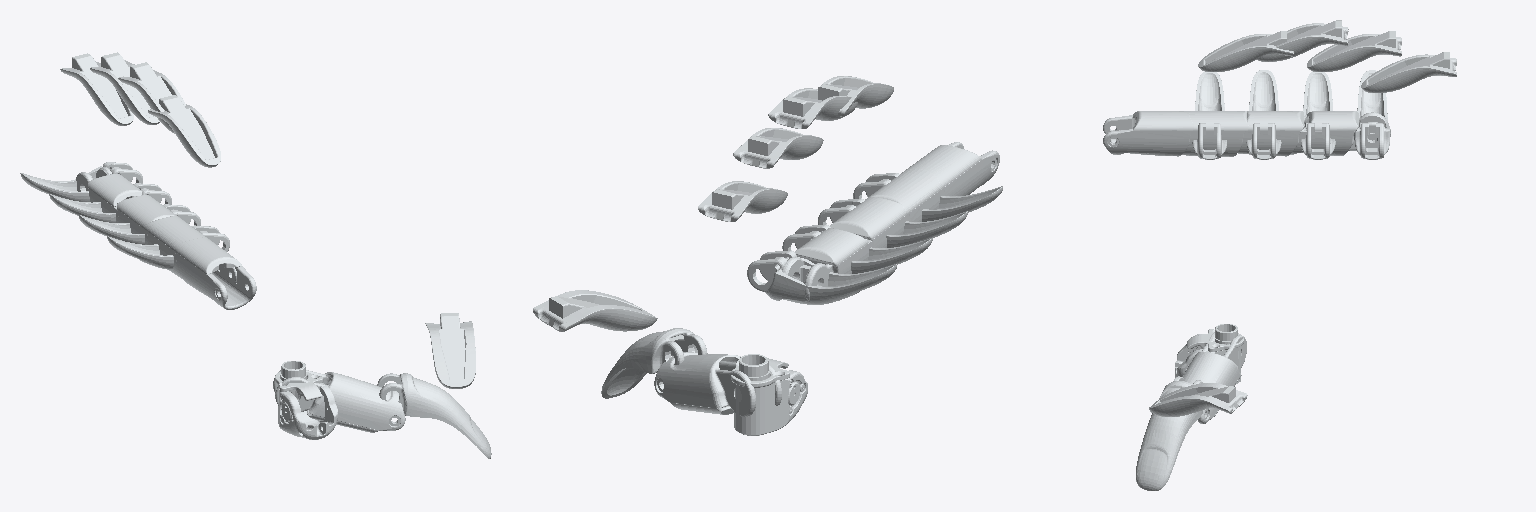
--- Facts derived from the render (not from the file) ---
Views: 3 orthographic renders of the robot side by side, from view 1: azimuth 30°, elevation 25°; view 2: azimuth 150°, elevation 25°; view 3: azimuth 270°, elevation 25°.
Model ruihand15z with 26 links and 25 joints (25 revolute), rooted at basez_link, posed all joints at 0.
Links seen in each view (by area): view 1: fz12_Link, fz21_Link, fz13_Link, fz11_Link, fz14_Link, fz23_Link, fz53_Link, fz31_Link, fz51_Link, fz43_Link, fz33_Link, fz52_Link (+4 smaller); view 2: fz12_Link, fz11_Link, fz52_Link, fz14_Link, fz13_Link, fz51_Link, fz21_Link, fz53_Link, fz43_Link, fz41_Link, fz33_Link, fz31_Link (+4 smaller); view 3: fz21_Link, fz13_Link, fz51_Link, fz14_Link, fz53_Link, fz43_Link, fz12_Link, fz23_Link, fz41_Link, fz31_Link, fz42_Link, fz32_Link (+4 smaller).
Link boxes in pixels (<box>): fz12_Link: <box>273,369,405,432</box>; fz21_Link: <box>175,237,256,309</box>; fz13_Link: <box>377,373,491,458</box>; fz11_Link: <box>275,361,337,439</box>; fz14_Link: <box>425,313,475,388</box>; fz23_Link: <box>148,95,220,167</box>; fz53_Link: <box>60,53,133,125</box>; fz31_Link: <box>146,216,236,288</box>; fz51_Link: <box>76,167,141,222</box>; fz43_Link: <box>90,52,159,124</box>; fz33_Link: <box>118,62,185,133</box>; fz52_Link: <box>20,162,142,201</box>; fz12_Link: <box>654,352,781,416</box>; fz11_Link: <box>731,354,807,435</box>; fz52_Link: <box>747,250,896,304</box>; fz14_Link: <box>533,290,657,331</box>; fz13_Link: <box>601,328,707,398</box>; fz51_Link: <box>782,228,873,301</box>; fz21_Link: <box>905,142,999,195</box>; fz53_Link: <box>698,181,787,221</box>; fz43_Link: <box>733,128,823,168</box>; fz41_Link: <box>830,197,909,247</box>; fz33_Link: <box>768,88,857,128</box>; fz31_Link: <box>865,169,944,221</box>; fz21_Link: <box>1103,111,1194,156</box>; fz13_Link: <box>1136,376,1202,490</box>; fz51_Link: <box>1290,111,1387,155</box>; fz14_Link: <box>1149,383,1247,416</box>; fz53_Link: <box>1361,52,1456,92</box>; fz43_Link: <box>1307,31,1401,71</box>; fz12_Link: <box>1182,332,1246,423</box>; fz23_Link: <box>1198,31,1293,71</box>; fz41_Link: <box>1238,111,1308,156</box>; fz31_Link: <box>1182,111,1248,156</box>; fz42_Link: <box>1301,71,1335,159</box>; fz32_Link: <box>1246,70,1281,159</box>.
Size in the robot's own frame: 0.1749 by 0.1536 by 0.1693 metres.
16 mesh visuals loaded from 26 distinct referenced files (16 binary STL); not drawn: 10 (reference not matched to a file when rendering).

URDF robot description (ruihand15z):
<?xml version="1.0" encoding="utf-8"?>
<!-- This URDF was automatically created by SolidWorks to URDF Exporter! Originally created by Stephen Brawner ([email redacted]) 
     Commit Version: 1.6.0-4-g7f85cfe  Build Version: 1.6.7995.38578
     For more information, please see http://wiki.ros.org/sw_urdf_exporter -->
<robot
  name="ruihand15z">
  <link
    name="basez_link">
    <inertial>
      <origin
        xyz="-0.00034317355194001 -0.00107533224504763 0.0538785367456893"
        rpy="0 0 0" />
      <mass
        value="0.227678925866238" />
      <inertia
        ixx="0.000233949239163572"
        ixy="7.90989513347236E-06"
        ixz="1.11723414007549E-06"
        iyy="8.94875900945447E-05"
        iyz="-2.89927923326347E-07"
        izz="0.000204633061533402" />
    </inertial>
    <visual>
      <origin
        xyz="0 0 0"
        rpy="0 0 0" />
      <geometry>
        <mesh
          filename="package://ruihand15z/meshes/basez_link.STL" />
      </geometry>
      <material
        name="">
        <color
          rgba="0.898039215686275 0.917647058823529 0.929411764705882 1" />
      </material>
    </visual>
    <collision>
      <origin
        xyz="0 0 0"
        rpy="0 0 0" />
      <geometry>
        <mesh
          filename="package://ruihand15z/meshes/basez_link.STL" />
      </geometry>
    </collision>
  </link>
  <link
    name="fz11_Link">
    <inertial>
      <origin
        xyz="-1.79457143589801E-15 9.43689570931383E-16 0.00899061986241671"
        rpy="0 0 0" />
      <mass
        value="0.00121360929921686" />
      <inertia
        ixx="2.58560142514925E-08"
        ixy="1.10591413462516E-08"
        ixz="-4.06076044959727E-23"
        iyy="4.44154571010466E-08"
        iyz="1.85734806549779E-23"
        izz="3.46380536471336E-08" />
    </inertial>
    <visual>
      <origin
        xyz="0 0 0"
        rpy="0 0 0" />
      <geometry>
        <mesh
          filename="package://ruihand15z/meshes/fz11_Link.STL" />
      </geometry>
      <material
        name="">
        <color
          rgba="0.898039215686275 0.917647058823529 0.929411764705882 1" />
      </material>
    </visual>
    <collision>
      <origin
        xyz="0 0 0"
        rpy="0 0 0" />
      <geometry>
        <mesh
          filename="package://ruihand15z/meshes/fz11_Link.STL" />
      </geometry>
    </collision>
  </link>
  <joint
    name="fz11"
    type="revolute">
    <origin
      xyz="0.043274 -0.02801 0.0198"
      rpy="0 0 1.5708" />
    <parent
      link="basez_link" />
    <child
      link="fz11_Link" />
    <axis
      xyz="0 0 1" />
    <limit
      lower="-0.5236"
      upper="0.5236"
      effort="0"
      velocity="0" />
  </joint>
  <link
    name="fz12_Link">
    <inertial>
      <origin
        xyz="-0.0219931136714579 -0.0024299188374876 -3.36588766901118E-06"
        rpy="0 0 0" />
      <mass
        value="0.0086797110524118" />
      <inertia
        ixx="4.19465389343526E-07"
        ixy="-1.70828148823669E-08"
        ixz="-3.80668629575153E-11"
        iyy="1.48378274279081E-06"
        iyz="-3.94675866573785E-11"
        izz="1.72593124811867E-06" />
    </inertial>
    <visual>
      <origin
        xyz="0 0 0"
        rpy="0 0 0" />
      <geometry>
        <mesh
          filename="package://ruihand15z/meshes/fz12_Link.STL" />
      </geometry>
      <material
        name="">
        <color
          rgba="0.898039215686275 0.917647058823529 0.929411764705882 1" />
      </material>
    </visual>
    <collision>
      <origin
        xyz="0 0 0"
        rpy="0 0 0" />
      <geometry>
        <mesh
          filename="package://ruihand15z/meshes/fz12_Link.STL" />
      </geometry>
    </collision>
  </link>
  <joint
    name="fz12"
    type="revolute">
    <origin
      xyz="0 0 0.0141"
      rpy="-1.5708 0 1.1345" />
    <parent
      link="fz11_Link" />
    <child
      link="fz12_Link" />
    <axis
      xyz="0 0 1" />
    <limit
      lower="0"
      upper="1.57"
      effort="0"
      velocity="0" />
  </joint>
  <link
    name="fz13_Link">
    <inertial>
      <origin
        xyz="-0.0126990507925109 -0.00157345468912809 9.30728945037693E-07"
        rpy="0 0 0" />
      <mass
        value="0.00476430658437596" />
      <inertia
        ixx="2.0250958928003E-07"
        ixy="-5.40162774809869E-08"
        ixz="-8.05266363789902E-12"
        iyy="4.48784909975031E-07"
        iyz="-4.20947067180248E-11"
        izz="5.20433152925732E-07" />
    </inertial>
    <visual>
      <origin
        xyz="0 0 0"
        rpy="0 0 0" />
      <geometry>
        <mesh
          filename="package://ruihand15z/meshes/fz13_Link.STL" />
      </geometry>
      <material
        name="">
        <color
          rgba="0.898039215686275 0.917647058823529 0.929411764705882 1" />
      </material>
    </visual>
    <collision>
      <origin
        xyz="0 0 0"
        rpy="0 0 0" />
      <geometry>
        <mesh
          filename="package://ruihand15z/meshes/fz13_Link.STL" />
      </geometry>
    </collision>
  </link>
  <joint
    name="fz13"
    type="revolute">
    <origin
      xyz="-0.04 0.0020036 0"
      rpy="0 0 0" />
    <parent
      link="fz12_Link" />
    <child
      link="fz13_Link" />
    <axis
      xyz="0 0 1" />
    <limit
      lower="0"
      upper="1.31"
      effort="0"
      velocity="0" />
  </joint>
  <link
    name="fz14_Link">
    <inertial>
      <origin
        xyz="-0.00453291060027065 0.00472963864384698 2.85317228388565E-07"
        rpy="0 0 0" />
      <mass
        value="0.00501763174573986" />
      <inertia
        ixx="2.42260748248976E-07"
        ixy="1.32389385112121E-07"
        ixz="1.48296682673441E-11"
        iyy="5.10623486838791E-07"
        iyz="-6.07620684859474E-12"
        izz="5.23917809101009E-07" />
    </inertial>
    <visual>
      <origin
        xyz="0 0 0"
        rpy="0 0 0" />
      <geometry>
        <mesh
          filename="package://ruihand15z/meshes/fz14_Link.STL" />
      </geometry>
      <material
        name="">
        <color
          rgba="0.898039215686275 0.917647058823529 0.929411764705882 1" />
      </material>
    </visual>
    <collision>
      <origin
        xyz="0 0 0"
        rpy="0 0 0" />
      <geometry>
        <mesh
          filename="package://ruihand15z/meshes/fz14_Link.STL" />
      </geometry>
    </collision>
  </link>
  <joint
    name="fz14"
    type="revolute">
    <origin
      xyz="-0.026394 -0.0056891 0"
      rpy="0 0 0" />
    <parent
      link="fz13_Link" />
    <child
      link="fz14_Link" />
    <axis
      xyz="0 0 1" />
    <limit
      lower="0"
      upper="1.31"
      effort="0"
      velocity="0" />
    <mimic joint="fz13" multiplier="1.0" offset="0.0"/>
  </joint>
  <link
    name="fz15_Link">
    <inertial>
      <origin
        xyz="0.0027951812128217 1.05983190153494E-06 -0.00807621626120532"
        rpy="0 0 0" />
      <mass
        value="0.00471873167369203" />
      <inertia
        ixx="3.14361854516814E-07"
        ixy="-3.75583597536668E-11"
        ixz="3.59592178959833E-08"
        iyy="2.68192719248611E-07"
        iyz="8.47895015682231E-12"
        izz="1.74396668902991E-07" />
    </inertial>
    <visual>
      <origin
        xyz="0 0 0"
        rpy="0 0 0" />
      <geometry>
        <mesh
          filename="package://ruihand15z/meshes/fz15_Link.STL" />
      </geometry>
      <material
        name="">
        <color
          rgba="0.298039215686275 0.298039215686275 0.298039215686275 1" />
      </material>
    </visual>
    <collision>
      <origin
        xyz="0 0 0"
        rpy="0 0 0" />
      <geometry>
        <mesh
          filename="package://ruihand15z/meshes/fz15_Link.STL" />
      </geometry>
    </collision>
  </link>
  <joint
    name="fz15"
    type="revolute">
    <origin
      xyz="-0.022081 0.0064251 0"
      rpy="1.5708 0 -1.59" />
    <parent
      link="fz14_Link" />
    <child
      link="fz15_Link" />
    <axis
      xyz="0 0 1" />
    <limit
      lower="0"
      upper="0"
      effort="0"
      velocity="0" />
  </joint>
  <link
    name="fz21_Link">
    <inertial>
      <origin
        xyz="8.67361737988404E-18 -1.38777878078145E-17 0.00889061986241678"
        rpy="0 0 0" />
      <mass
        value="0.00121360929921685" />
      <inertia
        ixx="2.06990519491167E-08"
        ixy="-1.09024868504868E-21"
        ixz="-2.90145723079446E-23"
        iyy="4.95724194034222E-08"
        iyz="4.76932694968486E-24"
        izz="3.46380536471335E-08" />
    </inertial>
    <visual>
      <origin
        xyz="0 0 0"
        rpy="0 0 0" />
      <geometry>
        <mesh
          filename="package://ruihand15z/meshes/fz21_Link.STL" />
      </geometry>
      <material
        name="">
        <color
          rgba="0.898039215686275 0.917647058823529 0.929411764705882 1" />
      </material>
    </visual>
    <collision>
      <origin
        xyz="0 0 0"
        rpy="0 0 0" />
      <geometry>
        <mesh
          filename="package://ruihand15z/meshes/fz21_Link.STL" />
      </geometry>
    </collision>
  </link>
  <joint
    name="fz21"
    type="revolute">
    <origin
      xyz="-0.0127 -0.03525 0.1127"
      rpy="1.5708 0 1.5708" />
    <parent
      link="basez_link" />
    <child
      link="fz21_Link" />
    <axis
      xyz="0 0 1" />
    <limit
      lower="-0.5236"
      upper="0.5236"
      effort="0"
      velocity="0" />
  </joint>
  <link
    name="fz22_Link">
    <inertial>
      <origin
        xyz="0.00242244594876855 0.0218789324043592 4.17047610418554E-06"
        rpy="0 0 0" />
      <mass
        value="0.00846278916519727" />
      <inertia
        ixx="1.45078674231368E-06"
        ixy="-1.85847798062845E-08"
        ixz="-5.82745974717836E-12"
        iyy="4.05775375043037E-07"
        iyz="-2.23927698184646E-12"
        izz="1.69324372838146E-06" />
    </inertial>
    <visual>
      <origin
        xyz="0 0 0"
        rpy="0 0 0" />
      <geometry>
        <mesh
          filename="package://ruihand15z/meshes/fz22_Link.STL" />
      </geometry>
      <material
        name="">
        <color
          rgba="0.898039215686275 0.917647058823529 0.929411764705882 1" />
      </material>
    </visual>
    <collision>
      <origin
        xyz="0 0 0"
        rpy="0 0 0" />
      <geometry>
        <mesh
          filename="package://ruihand15z/meshes/fz22_Link.STL" />
      </geometry>
    </collision>
  </link>
  <joint
    name="fz22"
    type="revolute">
    <origin
      xyz="0 0 0.014"
      rpy="3.1416 -1.5708 3.1416" />
    <parent
      link="fz21_Link" />
    <child
      link="fz22_Link" />
    <axis
      xyz="0 0 -1" />
    <limit
      lower="0"
      upper="1.57"
      effort="0"
      velocity="0" />
  </joint>
  <link
    name="fz23_Link">
    <inertial>
      <origin
        xyz="0.00144556303041219 0.0125380664486047 -8.78824398028986E-05"
        rpy="0 0 0" />
      <mass
        value="0.0042737052106798" />
      <inertia
        ixx="3.63123749138908E-07"
        ixy="-4.77067794625013E-08"
        ixz="-4.57504043950822E-11"
        iyy="1.52556733134053E-07"
        iyz="-1.35005307556737E-10"
        izz="4.64266435903028E-07" />
    </inertial>
    <visual>
      <origin
        xyz="0 0 0"
        rpy="0 0 0" />
      <geometry>
        <mesh
          filename="package://ruihand15z/meshes/fz23_Link.STL" />
      </geometry>
      <material
        name="">
        <color
          rgba="0.898039215686275 0.917647058823529 0.929411764705882 1" />
      </material>
    </visual>
    <collision>
      <origin
        xyz="0 0 0"
        rpy="0 0 0" />
      <geometry>
        <mesh
          filename="package://ruihand15z/meshes/fz23_Link.STL" />
      </geometry>
    </collision>
  </link>
  <joint
    name="fz23"
    type="revolute">
    <origin
      xyz="-0.0020036 0.04 0.0001"
      rpy="0 0 0" />
    <parent
      link="fz22_Link" />
    <child
      link="fz23_Link" />
    <axis
      xyz="0 0 -1" />
    <limit
      lower="0"
      upper="1.31"
      effort="0"
      velocity="0" />
  </joint>
  <link
    name="fz24_Link">
    <inertial>
      <origin
        xyz="-0.00466154898025173 0.00436249934079028 1.11545975147592E-10"
        rpy="0 0 0" />
      <mass
        value="0.00479708690323324" />
      <inertia
        ixx="4.75009027944999E-07"
        ixy="1.27106629359309E-07"
        ixz="2.70293440908828E-13"
        iyy="2.17004046488688E-07"
        iyz="-2.79556247147891E-12"
        izz="5.0429014813509E-07" />
    </inertial>
    <visual>
      <origin
        xyz="0 0 0"
        rpy="0 0 0" />
      <geometry>
        <mesh
          filename="package://ruihand15z/meshes/fz24_Link.STL" />
      </geometry>
      <material
        name="">
        <color
          rgba="0.898039215686275 0.917647058823529 0.929411764705882 1" />
      </material>
    </visual>
    <collision>
      <origin
        xyz="0 0 0"
        rpy="0 0 0" />
      <geometry>
        <mesh
          filename="package://ruihand15z/meshes/fz24_Link.STL" />
      </geometry>
    </collision>
  </link>
  <joint
    name="fz24"
    type="revolute">
    <origin
      xyz="0.0056891 0.026394 -0.0001"
      rpy="0 0 0" />
    <parent
      link="fz23_Link" />
    <child
      link="fz24_Link" />
    <axis
      xyz="0 0 -1" />
    <limit
      lower="0"
      upper="1.31"
      effort="0"
      velocity="0" />
    <mimic joint="fz23" multiplier="1.0" offset="0.0"/>
  </joint>
  <link
    name="fz25_Link">
    <inertial>
      <origin
        xyz="0.00297644022186262 1.04454969095114E-06 -0.00793433105288593"
        rpy="0 0 0" />
      <mass
        value="0.00435559858107511" />
      <inertia
        ixx="2.74467460036102E-07"
        ixy="-9.96171397579148E-12"
        ixz="3.73354156247215E-08"
        iyy="2.50729986460295E-07"
        iyz="1.59412272233225E-11"
        izz="1.46865601968644E-07" />
    </inertial>
    <visual>
      <origin
        xyz="0 0 0"
        rpy="0 0 0" />
      <geometry>
        <mesh
          filename="package://ruihand15z/meshes/fz25_Link.STL" />
      </geometry>
      <material
        name="">
        <color
          rgba="0.298039215686275 0.298039215686275 0.298039215686275 1" />
      </material>
    </visual>
    <collision>
      <origin
        xyz="0 0 0"
        rpy="0 0 0" />
      <geometry>
        <mesh
          filename="package://ruihand15z/meshes/fz25_Link.STL" />
      </geometry>
    </collision>
  </link>
  <joint
    name="fz25"
    type="revolute">
    <origin
      xyz="-0.0064251 0.022081 0"
      rpy="-1.5708 0 0" />
    <parent
      link="fz24_Link" />
    <child
      link="fz25_Link" />
    <axis
      xyz="0 0 1" />
    <limit
      lower="0"
      upper="0"
      effort="0"
      velocity="0" />
  </joint>
  <link
    name="fz31_Link">
    <inertial>
      <origin
        xyz="3.12250225675825E-17 0 0.00889061986241679"
        rpy="0 0 0" />
      <mass
        value="0.00121360929921686" />
      <inertia
        ixx="2.06990534269133E-08"
        ixy="-6.53214829601369E-12"
        ixz="5.55279149511914E-23"
        iyy="4.95724179256259E-08"
        iyz="-1.5829816227565E-24"
        izz="3.46380536471337E-08" />
    </inertial>
    <visual>
      <origin
        xyz="0 0 0"
        rpy="0 0 0" />
      <geometry>
        <mesh
          filename="package://ruihand15z/meshes/fz31_Link.STL" />
      </geometry>
      <material
        name="">
        <color
          rgba="0.898039215686275 0.917647058823529 0.929411764705882 1" />
      </material>
    </visual>
    <collision>
      <origin
        xyz="0 0 0"
        rpy="0 0 0" />
      <geometry>
        <mesh
          filename="package://ruihand15z/meshes/fz31_Link.STL" />
      </geometry>
    </collision>
  </link>
  <joint
    name="fz31"
    type="revolute">
    <origin
      xyz="-0.0127 -0.01175 0.1127"
      rpy="1.5708 0 1.5708" />
    <parent
      link="basez_link" />
    <child
      link="fz31_Link" />
    <axis
      xyz="0 0 1" />
    <limit
      lower="-0.5236"
      upper="0.5236"
      effort="0"
      velocity="0" />
  </joint>
  <link
    name="fz32_Link">
    <inertial>
      <origin
        xyz="0.00230635436550865 0.0245490817198411 6.01794702180525E-06"
        rpy="0 0 0" />
      <mass
        value="0.00970085709495209" />
      <inertia
        ixx="2.0120676450683E-06"
        ixy="7.24905883206972E-09"
        ixz="-2.25496572279817E-11"
        iyy="4.68755263351101E-07"
        iyz="-3.97846945185649E-10"
        izz="2.28717289308201E-06" />
    </inertial>
    <visual>
      <origin
        xyz="0 0 0"
        rpy="0 0 0" />
      <geometry>
        <mesh
          filename="package://ruihand15z/meshes/fz32_Link.STL" />
      </geometry>
      <material
        name="">
        <color
          rgba="0.898039215686275 0.917647058823529 0.929411764705882 1" />
      </material>
    </visual>
    <collision>
      <origin
        xyz="0 0 0"
        rpy="0 0 0" />
      <geometry>
        <mesh
          filename="package://ruihand15z/meshes/fz32_Link.STL" />
      </geometry>
    </collision>
  </link>
  <joint
    name="fz32"
    type="revolute">
    <origin
      xyz="0 0 0.014"
      rpy="3.1416 -1.5708 3.1416" />
    <parent
      link="fz31_Link" />
    <child
      link="fz32_Link" />
    <axis
      xyz="0 0 -1" />
    <limit
      lower="0"
      upper="1.57"
      effort="0"
      velocity="0" />
  </joint>
  <link
    name="fz33_Link">
    <inertial>
      <origin
        xyz="0.00167719778740236 0.0171106598149136 9.93180281379687E-05"
        rpy="0 0 0" />
      <mass
        value="0.00562429907357917" />
      <inertia
        ixx="7.47389909508925E-07"
        ixy="-6.65996272978183E-08"
        ixz="6.85392395706968E-12"
        iyy="2.1598638936055E-07"
        iyz="1.14697442406448E-11"
        izz="8.96836484178209E-07" />
    </inertial>
    <visual>
      <origin
        xyz="0 0 0"
        rpy="0 0 0" />
      <geometry>
        <mesh
          filename="package://ruihand15z/meshes/fz33_Link.STL" />
      </geometry>
      <material
        name="">
        <color
          rgba="0.898039215686275 0.917647058823529 0.929411764705882 1" />
      </material>
    </visual>
    <collision>
      <origin
        xyz="0 0 0"
        rpy="0 0 0" />
      <geometry>
        <mesh
          filename="package://ruihand15z/meshes/fz33_Link.STL" />
      </geometry>
    </collision>
  </link>
  <joint
    name="fz33"
    type="revolute">
    <origin
      xyz="-0.0020038 0.045 -8.9819E-05"
      rpy="0.00022623 0 0" />
    <parent
      link="fz32_Link" />
    <child
      link="fz33_Link" />
    <axis
      xyz="0 0 -1" />
    <limit
      lower="0"
      upper="1.31"
      effort="0"
      velocity="0" />
  </joint>
  <link
    name="fz34_Link">
    <inertial>
      <origin
        xyz="-0.00474818242099373 0.00426803961977545 -4.7997448376913E-10"
        rpy="0 0 0" />
      <mass
        value="0.00479709005735866" />
      <inertia
        ixx="4.69802766193693E-07"
        ixy="1.32182615163572E-07"
        ixz="3.42887496049374E-13"
        iyy="2.22210684151133E-07"
        iyz="-2.80303782440668E-12"
        izz="5.04290368704447E-07" />
    </inertial>
    <visual>
      <origin
        xyz="0 0 0"
        rpy="0 0 0" />
      <geometry>
        <mesh
          filename="package://ruihand15z/meshes/fz34_Link.STL" />
      </geometry>
      <material
        name="">
        <color
          rgba="0.898039215686275 0.917647058823529 0.929411764705882 1" />
      </material>
    </visual>
    <collision>
      <origin
        xyz="0 0 0"
        rpy="0 0 0" />
      <geometry>
        <mesh
          filename="package://ruihand15z/meshes/fz34_Link.STL" />
      </geometry>
    </collision>
  </link>
  <joint
    name="fz34"
    type="revolute">
    <origin
      xyz="0.0054853 0.03558 0.0001"
      rpy="0 0 0" />
    <parent
      link="fz33_Link" />
    <child
      link="fz34_Link" />
    <axis
      xyz="0 0 -1" />
    <limit
      lower="0"
      upper="1.31"
      effort="0"
      velocity="0" />
    <mimic joint="fz33" multiplier="1.0" offset="0.0"/>
  </joint>
  <link
    name="fz35_Link">
    <inertial>
      <origin
        xyz="0.0028235594553636 2.82813048171557E-06 -0.0079900105331456"
        rpy="0 0 0" />
      <mass
        value="0.00435560058721544" />
      <inertia
        ixx="2.75853559206604E-07"
        ixy="-1.77656391096842E-11"
        ixz="3.48583257155576E-08"
        iyy="2.50729964535802E-07"
        iyz="3.96584272464994E-11"
        izz="1.45479128088164E-07" />
    </inertial>
    <visual>
      <origin
        xyz="0 0 0"
        rpy="0 0 0" />
      <geometry>
        <mesh
          filename="package://ruihand15z/meshes/fz35_Link.STL" />
      </geometry>
      <material
        name="">
        <color
          rgba="0.298039215686275 0.298039215686275 0.298039215686275 1" />
      </material>
    </visual>
    <collision>
      <origin
        xyz="0 0 0"
        rpy="0 0 0" />
      <geometry>
        <mesh
          filename="package://ruihand15z/meshes/fz35_Link.STL" />
      </geometry>
    </collision>
  </link>
  <joint
    name="fz35"
    type="revolute">
    <origin
      xyz="-0.0068671 0.021947 0"
      rpy="-1.571 0 0.039277" />
    <parent
      link="fz34_Link" />
    <child
      link="fz35_Link" />
    <axis
      xyz="0 0 1" />
    <limit
      lower="0"
      upper="0"
      effort="0"
      velocity="0" />
  </joint>
  <link
    name="fz41_Link">
    <inertial>
      <origin
        xyz="8.39606162372775E-16 -5.55111512312578E-16 0.00889061986241678"
        rpy="0 0 0" />
      <mass
        value="0.00121360929921685" />
      <inertia
        ixx="2.06990519491167E-08"
        ixy="-1.09048462267801E-21"
        ixz="-3.92791274062923E-23"
        iyy="4.95724194034222E-08"
        iyz="4.63460196223086E-24"
        izz="3.46380536471335E-08" />
    </inertial>
    <visual>
      <origin
        xyz="0 0 0"
        rpy="0 0 0" />
      <geometry>
        <mesh
          filename="package://ruihand15z/meshes/fz41_Link.STL" />
      </geometry>
      <material
        name="">
        <color
          rgba="0.898039215686275 0.917647058823529 0.929411764705882 1" />
      </material>
    </visual>
    <collision>
      <origin
        xyz="0 0 0"
        rpy="0 0 0" />
      <geometry>
        <mesh
          filename="package://ruihand15z/meshes/fz41_Link.STL" />
      </geometry>
    </collision>
  </link>
  <joint
    name="fz41"
    type="revolute">
    <origin
      xyz="-0.0127 0.01175 0.1127"
      rpy="1.5708 0 1.5708" />
    <parent
      link="basez_link" />
    <child
      link="fz41_Link" />
    <axis
      xyz="0 0 1" />
    <limit
      lower="-0.5236"
      upper="0.5236"
      effort="0"
      velocity="0" />
  </joint>
  <link
    name="fz42_Link">
    <inertial>
      <origin
        xyz="0.00242242770023601 0.021878951599619 4.18412884452962E-06"
        rpy="0 0 0" />
      <mass
        value="0.00846276747416872" />
      <inertia
        ixx="1.45078545665461E-06"
        ixy="-1.8586010638057E-08"
        ixz="-6.36656277966731E-12"
        iyy="4.0577424339608E-07"
        iyz="-1.60173870162051E-12"
        izz="1.69324128551225E-06" />
    </inertial>
    <visual>
      <origin
        xyz="0 0 0"
        rpy="0 0 0" />
      <geometry>
        <mesh
          filename="package://ruihand15z/meshes/fz42_Link.STL" />
      </geometry>
      <material
        name="">
        <color
          rgba="0.898039215686275 0.917647058823529 0.929411764705882 1" />
      </material>
    </visual>
    <collision>
      <origin
        xyz="0 0 0"
        rpy="0 0 0" />
      <geometry>
        <mesh
          filename="package://ruihand15z/meshes/fz42_Link.STL" />
      </geometry>
    </collision>
  </link>
  <joint
    name="fz42"
    type="revolute">
    <origin
      xyz="0 0 0.014"
      rpy="3.1416 -1.5708 3.1416" />
    <parent
      link="fz41_Link" />
    <child
      link="fz42_Link" />
    <axis
      xyz="0 0 -1" />
    <limit
      lower="0"
      upper="1.57"
      effort="0"
      velocity="0" />
  </joint>
  <link
    name="fz43_Link">
    <inertial>
      <origin
        xyz="0.00144556693299163 0.0125380648239439 -8.78872398343139E-05"
        rpy="0 0 0" />
      <mass
        value="0.00427370774811129" />
      <inertia
        ixx="3.63123762918333E-07"
        ixy="-4.77067371656638E-08"
        ixz="-4.57423551960943E-11"
        iyy="1.52556844742802E-07"
        iyz="-1.35011229302418E-10"
        izz="4.64266562894101E-07" />
    </inertial>
    <visual>
      <origin
        xyz="0 0 0"
        rpy="0 0 0" />
      <geometry>
        <mesh
          filename="package://ruihand15z/meshes/fz43_Link.STL" />
      </geometry>
      <material
        name="">
        <color
          rgba="0.898039215686275 0.917647058823529 0.929411764705882 1" />
      </material>
    </visual>
    <collision>
      <origin
        xyz="0 0 0"
        rpy="0 0 0" />
      <geometry>
        <mesh
          filename="package://ruihand15z/meshes/fz43_Link.STL" />
      </geometry>
    </collision>
  </link>
  <joint
    name="fz43"
    type="revolute">
    <origin
      xyz="-0.0020036 0.04 0.0001"
      rpy="0 0 0" />
    <parent
      link="fz42_Link" />
    <child
      link="fz43_Link" />
    <axis
      xyz="0 0 -1" />
    <limit
      lower="0"
      upper="1.31"
      effort="0"
      velocity="0" />
  </joint>
  <link
    name="fz44_Link">
    <inertial>
      <origin
        xyz="-0.00466154898020672 0.00436249934079297 1.11546077929958E-10"
        rpy="0 0 0" />
      <mass
        value="0.00479708690323314" />
      <inertia
        ixx="4.75009027944991E-07"
        ixy="1.2710662935931E-07"
        ixz="2.70293440867116E-13"
        iyy="2.1700404648868E-07"
        iyz="-2.79556247300782E-12"
        izz="5.04290148135081E-07" />
    </inertial>
    <visual>
      <origin
        xyz="0 0 0"
        rpy="0 0 0" />
      <geometry>
        <mesh
          filename="package://ruihand15z/meshes/fz44_Link.STL" />
      </geometry>
      <material
        name="">
        <color
          rgba="0.898039215686275 0.917647058823529 0.929411764705882 1" />
      </material>
    </visual>
    <collision>
      <origin
        xyz="0 0 0"
        rpy="0 0 0" />
      <geometry>
        <mesh
          filename="package://ruihand15z/meshes/fz44_Link.STL" />
      </geometry>
    </collision>
  </link>
  <joint
    name="fz44"
    type="revolute">
    <origin
      xyz="0.0056891 0.026394 -0.0001"
      rpy="0 0 0" />
    <parent
      link="fz43_Link" />
    <child
      link="fz44_Link" />
    <axis
      xyz="0 0 -1" />
    <limit
      lower="0"
      upper="1.31"
      effort="0"
      velocity="0" />
    <mimic joint="fz43" multiplier="1.0" offset="0.0"/>
  </joint>
  <link
    name="fz45_Link">
    <inertial>
      <origin
        xyz="0.00297643893604397 1.04648391489187E-06 -0.00793433014148787"
        rpy="0 0 0" />
      <mass
        value="0.00435559752601789" />
      <inertia
        ixx="2.74467397037502E-07"
        ixy="-9.99398067356863E-12"
        ixz="3.73354327133049E-08"
        iyy="2.50729951244828E-07"
        iyz="1.59536261776382E-11"
        izz="1.46865522001121E-07" />
    </inertial>
    <visual>
      <origin
        xyz="0 0 0"
        rpy="0 0 0" />
      <geometry>
        <mesh
          filename="package://ruihand15z/meshes/fz45_Link.STL" />
      </geometry>
      <material
        name="">
        <color
          rgba="0.298039215686275 0.298039215686275 0.298039215686275 1" />
      </material>
    </visual>
    <collision>
      <origin
        xyz="0 0 0"
        rpy="0 0 0" />
      <geometry>
        <mesh
          filename="package://ruihand15z/meshes/fz45_Link.STL" />
      </geometry>
    </collision>
  </link>
  <joint
    name="fz45"
    type="revolute">
    <origin
      xyz="-0.0064251 0.022081 0"
      rpy="-1.5708 0 0" />
    <parent
      link="fz44_Link" />
    <child
      link="fz45_Link" />
    <axis
      xyz="0 0 1" />
    <limit
      lower="0"
      upper="0"
      effort="0"
      velocity="0" />
  </joint>
  <link
    name="fz51_Link">
    <inertial>
      <origin
        xyz="-2.6104118866499E-14 -1.12410081243297E-15 0.0089906198624165"
        rpy="0 0 0" />
      <mass
        value="0.00121360929921686" />
      <inertia
        ixx="2.06990534269133E-08"
        ixy="6.53214829729766E-12"
        ixz="-4.1889705963737E-23"
        iyy="4.95724179256258E-08"
        iyz="-2.53545369910789E-24"
        izz="3.46380536471337E-08" />
    </inertial>
    <visual>
      <origin
        xyz="0 0 0"
        rpy="0 0 0" />
      <geometry>
        <mesh
          filename="package://ruihand15z/meshes/fz51_Link.STL" />
      </geometry>
      <material
        name="">
        <color
          rgba="0.898039215686275 0.917647058823529 0.929411764705882 1" />
      </material>
    </visual>
    <collision>
      <origin
        xyz="0 0 0"
        rpy="0 0 0" />
      <geometry>
        <mesh
          filename="package://ruihand15z/meshes/fz51_Link.STL" />
      </geometry>
    </collision>
  </link>
  <joint
    name="fz51"
    type="revolute">
    <origin
      xyz="-0.0128 0.03525 0.1127"
      rpy="1.5708 0 1.5708" />
    <parent
      link="basez_link" />
    <child
      link="fz51_Link" />
    <axis
      xyz="0 0 1" />
    <limit
      lower="-0.5236"
      upper="0.5236"
      effort="0"
      velocity="0" />
  </joint>
  <link
    name="fz52_Link">
    <inertial>
      <origin
        xyz="0.00246342248237983 0.0167158509285723 -3.76673528433291E-05"
        rpy="0 0 0" />
      <mass
        value="0.00657269018137158" />
      <inertia
        ixx="6.88453851311553E-07"
        ixy="-2.29350346438115E-08"
        ixz="-1.92686903923411E-11"
        iyy="2.94941097624512E-07"
        iyz="-1.74500028537127E-11"
        izz="8.75198238324997E-07" />
    </inertial>
    <visual>
      <origin
        xyz="0 0 0"
        rpy="0 0 0" />
      <geometry>
        <mesh
          filename="package://ruihand15z/meshes/fz52_Link.STL" />
      </geometry>
      <material
        name="">
        <color
          rgba="0.898039215686275 0.917647058823529 0.929411764705882 1" />
      </material>
    </visual>
    <collision>
      <origin
        xyz="0 0 0"
        rpy="0 0 0" />
      <geometry>
        <mesh
          filename="package://ruihand15z/meshes/fz52_Link.STL" />
      </geometry>
    </collision>
  </link>
  <joint
    name="fz52"
    type="revolute">
    <origin
      xyz="0 0 0.0141"
      rpy="3.1414 -1.5708 3.1416" />
    <parent
      link="fz51_Link" />
    <child
      link="fz52_Link" />
    <axis
      xyz="0 0 -1" />
    <limit
      lower="0"
      upper="1.57"
      effort="0"
      velocity="0" />
  </joint>
  <link
    name="fz53_Link">
    <inertial>
      <origin
        xyz="0.00139189274491142 0.0105623724753729 0.000100008579342864"
        rpy="0 0 0" />
      <mass
        value="0.00345238261264214" />
      <inertia
        ixx="2.4974496866978E-07"
        ixy="-3.38118429756187E-08"
        ixz="-1.06960332729312E-11"
        iyy="1.34595729073782E-07"
        iyz="4.22846949052114E-12"
        izz="3.07778560333015E-07" />
    </inertial>
    <visual>
      <origin
        xyz="0 0 0"
        rpy="0 0 0" />
      <geometry>
        <mesh
          filename="package://ruihand15z/meshes/fz53_Link.STL" />
      </geometry>
      <material
        name="">
        <color
          rgba="0.898039215686275 0.917647058823529 0.929411764705882 1" />
      </material>
    </visual>
    <collision>
      <origin
        xyz="0 0 0"
        rpy="0 0 0" />
      <geometry>
        <mesh
          filename="package://ruihand15z/meshes/fz53_Link.STL" />
      </geometry>
    </collision>
  </link>
  <joint
    name="fz53"
    type="revolute">
    <origin
      xyz="-0.0020025 0.03 -0.00015"
      rpy="0 0 0" />
    <parent
      link="fz52_Link" />
    <child
      link="fz53_Link" />
    <axis
      xyz="0 0 -1" />
    <limit
      lower="0"
      upper="1.31"
      effort="0"
      velocity="0" />
  </joint>
  <link
    name="fz54_Link">
    <inertial>
      <origin
        xyz="-0.00453320968862529 0.00449571825323433 0.00800000047783327"
        rpy="0 0 0" />
      <mass
        value="0.00479708561279491" />
      <inertia
        ixx="4.82154241171672E-07"
        ixy="1.19421785552888E-07"
        ixz="1.88547687314121E-13"
        iyy="2.09858766597414E-07"
        iyz="-2.81202670973778E-12"
        izz="5.04290145625515E-07" />
    </inertial>
    <visual>
      <origin
        xyz="0 0 0"
        rpy="0 0 0" />
      <geometry>
        <mesh
          filename="package://ruihand15z/meshes/fz54_Link.STL" />
      </geometry>
      <material
        name="">
        <color
          rgba="0.898039215686275 0.917647058823529 0.929411764705882 1" />
      </material>
    </visual>
    <collision>
      <origin
        xyz="0 0 0"
        rpy="0 0 0" />
      <geometry>
        <mesh
          filename="package://ruihand15z/meshes/fz54_Link.STL" />
      </geometry>
    </collision>
  </link>
  <joint
    name="fz54"
    type="revolute">
    <origin
      xyz="0.0060847 0.022181 0.0001"
      rpy="0 0 0" />
    <parent
      link="fz53_Link" />
    <child
      link="fz54_Link" />
    <axis
      xyz="0 0 -1" />
    <limit
      lower="0"
      upper="1.31"
      effort="0"
      velocity="0" />
    <mimic joint="fz53" multiplier="1.0" offset="0.0"/>
  </joint>
  <link
    name="fz55_Link">
    <inertial>
      <origin
        xyz="0.00274529151993469 -7.70952745018927E-07 -0.00801721357061719"
        rpy="0 0 0" />
      <mass
        value="0.00435558826355098" />
      <inertia
        ixx="2.76522538046093E-07"
        ixy="-2.31264785724361E-12"
        ixz="3.35773665943653E-08"
        iyy="2.50729290326016E-07"
        iyz="-7.49862225562947E-12"
        izz="1.44809062572544E-07" />
    </inertial>
    <visual>
      <origin
        xyz="0 0 0"
        rpy="0 0 0" />
      <geometry>
        <mesh
          filename="package://ruihand15z/meshes/fz55_Link.STL" />
      </geometry>
      <material
        name="">
        <color
          rgba="0.298039215686275 0.298039215686275 0.298039215686275 1" />
      </material>
    </visual>
    <collision>
      <origin
        xyz="0 0 0"
        rpy="0 0 0" />
      <geometry>
        <mesh
          filename="package://ruihand15z/meshes/fz55_Link.STL" />
      </geometry>
    </collision>
  </link>
  <joint
    name="fz55"
    type="revolute">
    <origin
      xyz="-0.0057827 0.022258 0"
      rpy="-1.5706 0 0" />
    <parent
      link="fz54_Link" />
    <child
      link="fz55_Link" />
    <axis
      xyz="0 0 1" />
    <limit
      lower="0"
      upper="0"
      effort="0"
      velocity="0" />
  </joint>


   <!-- 在所有 link 和 joint 定义之后添加 transmission -->
  <transmission name="trans_fz11">
    <type>transmission_interface/SimpleTransmission</type>
    <joint name="fz11">
      <hardwareInterface>EffortJointInterface</hardwareInterface>
    </joint>
    <actuator name="actuator_fz11">
      <hardwareInterface>EffortJointInterface</hardwareInterface>
      <mechanicalReduction>1</mechanicalReduction>
    </actuator>
  </transmission>
  <transmission name="trans_fz12">
    <type>transmission_interface/SimpleTransmission</type>
    <joint name="fz12">
      <hardwareInterface>EffortJointInterface</hardwareInterface>
    </joint>
    <actuator name="actuator_fz12">
      <hardwareInterface>EffortJointInterface</hardwareInterface>
      <mechanicalReduction>1</mechanicalReduction>
    </actuator>
  </transmission>
  <transmission name="trans_fz13">
    <type>transmission_interface/SimpleTransmission</type>
    <joint name="fz13">
      <hardwareInterface>EffortJointInterface</hardwareInterface>
    </joint>
    <actuator name="actuator_fz13">
      <hardwareInterface>EffortJointInterface</hardwareInterface>
      <mechanicalReduction>1</mechanicalReduction>
    </actuator>
  </transmission>
  <transmission name="trans_fz14">
    <type>transmission_interface/SimpleTransmission</type>
    <joint name="fz14">
      <hardwareInterface>EffortJointInterface</hardwareInterface>
    </joint>
    <actuator name="actuator_fz14">
      <hardwareInterface>EffortJointInterface</hardwareInterface>
      <mechanicalReduction>1</mechanicalReduction>
    </actuator>
  </transmission>
  <transmission name="trans_fz21">
    <type>transmission_interface/SimpleTransmission</type>
    <joint name="fz21">
      <hardwareInterface>EffortJointInterface</hardwareInterface>
    </joint>
    <actuator name="actuator_fz21">
      <hardwareInterface>EffortJointInterface</hardwareInterface>
      <mechanicalReduction>1</mechanicalReduction>
    </actuator>
  </transmission>
  <transmission name="trans_fz22">
    <type>transmission_interface/SimpleTransmission</type>
    <joint name="fz22">
      <hardwareInterface>EffortJointInterface</hardwareInterface>
    </joint>
    <actuator name="actuator_fz22">
      <hardwareInterface>EffortJointInterface</hardwareInterface>
      <mechanicalReduction>1</mechanicalReduction>
    </actuator>
  </transmission>
  <transmission name="trans_fz23">
    <type>transmission_interface/SimpleTransmission</type>
    <joint name="fz23">
      <hardwareInterface>EffortJointInterface</hardwareInterface>
    </joint>
    <actuator name="actuator_fz23">
      <hardwareInterface>EffortJointInterface</hardwareInterface>
      <mechanicalReduction>1</mechanicalReduction>
    </actuator>
  </transmission>
  <transmission name="trans_fz24">
    <type>transmission_interface/SimpleTransmission</type>
    <joint name="fz24">
      <hardwareInterface>EffortJointInterface</hardwareInterface>
    </joint>
    <actuator name="actuator_fz24">
      <hardwareInterface>EffortJointInterface</hardwareInterface>
      <mechanicalReduction>1</mechanicalReduction>
    </actuator>
  </transmission>
  <transmission name="trans_fz31">
    <type>transmission_interface/SimpleTransmission</type>
    <joint name="fz31">
      <hardwareInterface>EffortJointInterface</hardwareInterface>
    </joint>
    <actuator name="actuator_fz31">
      <hardwareInterface>EffortJointInterface</hardwareInterface>
      <mechanicalReduction>1</mechanicalReduction>
    </actuator>
  </transmission>
  <transmission name="trans_fz32">
    <type>transmission_interface/SimpleTransmission</type>
    <joint name="fz32">
      <hardwareInterface>EffortJointInterface</hardwareInterface>
    </joint>
    <actuator name="actuator_fz32">
      <hardwareInterface>EffortJointInterface</hardwareInterface>
      <mechanicalReduction>1</mechanicalReduction>
    </actuator>
  </transmission>
  <transmission name="trans_fz33">
    <type>transmission_interface/SimpleTransmission</type>
    <joint name="fz33">
      <hardwareInterface>EffortJointInterface</hardwareInterface>
    </joint>
    <actuator name="actuator_fz33">
      <hardwareInterface>EffortJointInterface</hardwareInterface>
      <mechanicalReduction>1</mechanicalReduction>
    </actuator>
  </transmission>
  <transmission name="trans_fz34">
    <type>transmission_interface/SimpleTransmission</type>
    <joint name="fz34">
      <hardwareInterface>EffortJointInterface</hardwareInterface>
    </joint>
    <actuator name="actuator_fz34">
      <hardwareInterface>EffortJointInterface</hardwareInterface>
      <mechanicalReduction>1</mechanicalReduction>
    </actuator>
  </transmission>
  <transmission name="trans_fz41">
    <type>transmission_interface/SimpleTransmission</type>
    <joint name="fz41">
      <hardwareInterface>EffortJointInterface</hardwareInterface>
    </joint>
    <actuator name="actuator_fz41">
      <hardwareInterface>EffortJointInterface</hardwareInterface>
      <mechanicalReduction>1</mechanicalReduction>
    </actuator>
  </transmission>
  <transmission name="trans_fz42">
    <type>transmission_interface/SimpleTransmission</type>
    <joint name="fz42">
      <hardwareInterface>EffortJointInterface</hardwareInterface>
    </joint>
    <actuator name="actuator_fz42">
      <hardwareInterface>EffortJointInterface</hardwareInterface>
      <mechanicalReduction>1</mechanicalReduction>
    </actuator>
  </transmission>
  <transmission name="trans_fz43">
    <type>transmission_interface/SimpleTransmission</type>
    <joint name="fz43">
      <hardwareInterface>EffortJointInterface</hardwareInterface>
    </joint>
    <actuator name="actuator_fz43">
      <hardwareInterface>EffortJointInterface</hardwareInterface>
      <mechanicalReduction>1</mechanicalReduction>
    </actuator>
  </transmission>
  <transmission name="trans_fz44">
    <type>transmission_interface/SimpleTransmission</type>
    <joint name="fz44">
      <hardwareInterface>EffortJointInterface</hardwareInterface>
    </joint>
    <actuator name="actuator_fz44">
      <hardwareInterface>EffortJointInterface</hardwareInterface>
      <mechanicalReduction>1</mechanicalReduction>
    </actuator>
  </transmission>
  <transmission name="trans_fz51">
    <type>transmission_interface/SimpleTransmission</type>
    <joint name="fz51">
      <hardwareInterface>EffortJointInterface</hardwareInterface>
    </joint>
    <actuator name="actuator_fz51">
      <hardwareInterface>EffortJointInterface</hardwareInterface>
      <mechanicalReduction>1</mechanicalReduction>
    </actuator>
  </transmission>
  <transmission name="trans_fz52">
    <type>transmission_interface/SimpleTransmission</type>
    <joint name="fz52">
      <hardwareInterface>EffortJointInterface</hardwareInterface>
    </joint>
    <actuator name="actuator_fz52">
      <hardwareInterface>EffortJointInterface</hardwareInterface>
      <mechanicalReduction>1</mechanicalReduction>
    </actuator>
  </transmission>
  <transmission name="trans_fz53">
    <type>transmission_interface/SimpleTransmission</type>
    <joint name="fz53">
      <hardwareInterface>EffortJointInterface</hardwareInterface>
    </joint>
    <actuator name="actuator_fz53">
      <hardwareInterface>EffortJointInterface</hardwareInterface>
      <mechanicalReduction>1</mechanicalReduction>
    </actuator>
  </transmission>
  <transmission name="trans_fz54">
    <type>transmission_interface/SimpleTransmission</type>
    <joint name="fz54">
      <hardwareInterface>EffortJointInterface</hardwareInterface>
    </joint>
    <actuator name="actuator_fz54">
      <hardwareInterface>EffortJointInterface</hardwareInterface>
      <mechanicalReduction>1</mechanicalReduction>
    </actuator>
  </transmission>

</robot>
